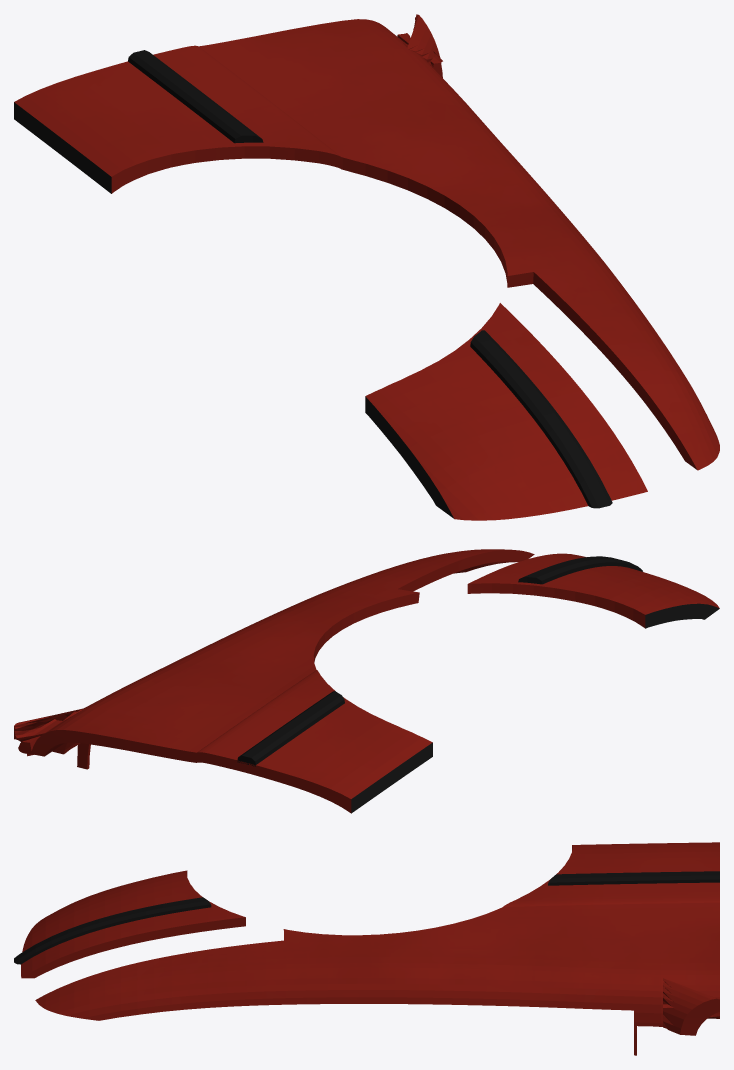
The model's file is paralama_d_van.glb.
The picture shows the model from 3 angles, top to bottom: view 1: azimuth 30°, elevation 25°; view 2: azimuth 150°, elevation 25°; view 3: azimuth 270°, elevation 25°; orthographic projection. The views are drawn at different scales.
Visible parts, largest first — view 1: paralama_d_van_pintura, paralama_d_van_borracha, paralama_d_van_chassi; view 2: paralama_d_van_pintura, paralama_d_van_borracha, paralama_d_van_chassi; view 3: paralama_d_van_pintura, paralama_d_van_borracha.
Part boxes in pixels (bbox=[...]): paralama_d_van_pintura: bbox=[14, 14, 719, 520]; paralama_d_van_borracha: bbox=[128, 50, 612, 508]; paralama_d_van_chassi: bbox=[14, 102, 453, 518]; paralama_d_van_pintura: bbox=[14, 549, 719, 813]; paralama_d_van_borracha: bbox=[237, 556, 642, 766]; paralama_d_van_chassi: bbox=[351, 603, 719, 813]; paralama_d_van_pintura: bbox=[21, 842, 719, 1055]; paralama_d_van_borracha: bbox=[14, 871, 719, 964].
Bounding box in the file's own units: 0.685 × 0.1867 × 1.37.
Materials: 3 (1 with a texture image).
